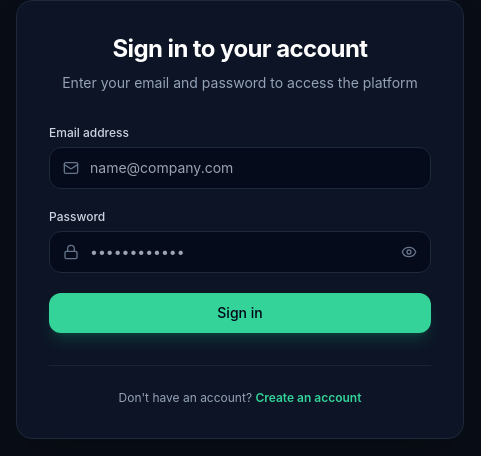
Scenario: LoginForm Component › toggles password visibility when eye button is clicked
The image size is (481, 456).
Click the button named "show password": (416,252) [401,231,431,273]
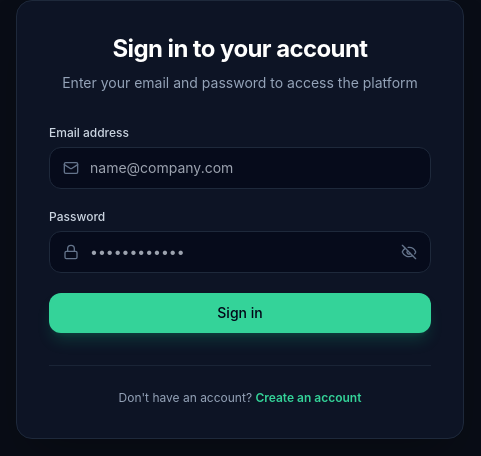
Expected: the button named "hide password" is shown, [401,231,431,273]
